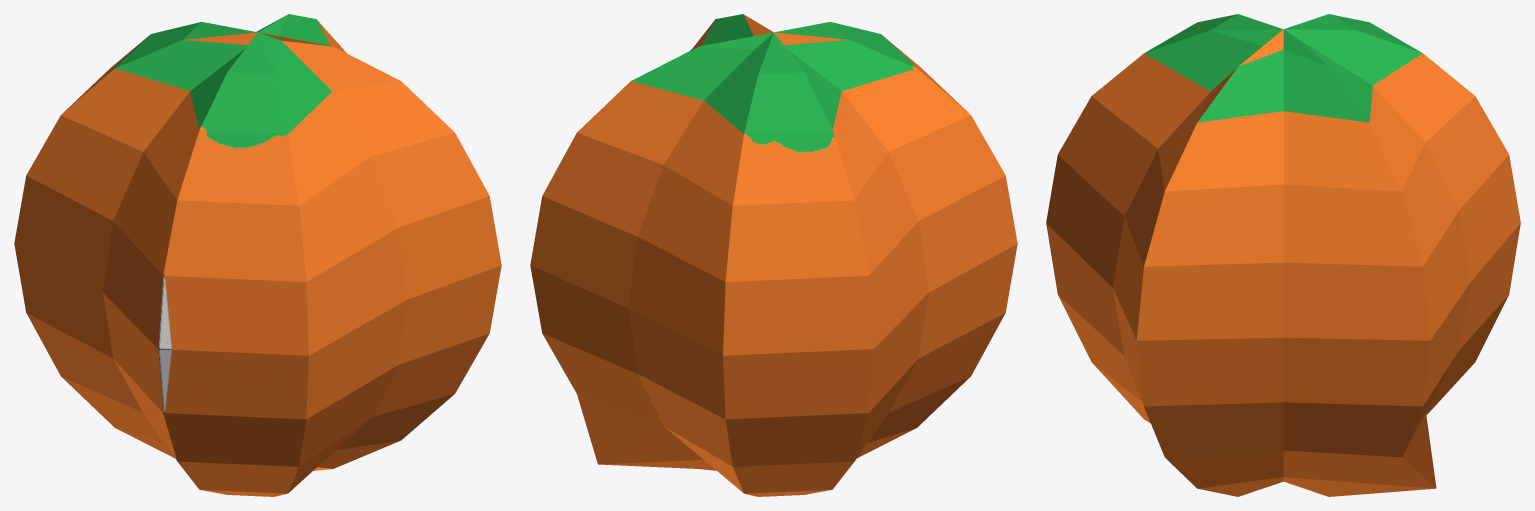
Rendered from Kuerbis.fbx.
The picture shows the model from 3 angles, left to right: view 1: azimuth 30°, elevation 25°; view 2: azimuth 150°, elevation 25°; view 3: azimuth 270°, elevation 25°; orthographic projection.
Visible parts, largest first — view 1: Kuerbis1; view 2: Kuerbis1; view 3: Kuerbis1.
Part boxes in pixels (x1,y1,x2,y2): Kuerbis1: (14,14,501,496); Kuerbis1: (530,14,1017,496); Kuerbis1: (1046,14,1520,496).
Size of the model in its own units: 48.54 by 60 by 57.06.
1 material, 1 textured.
